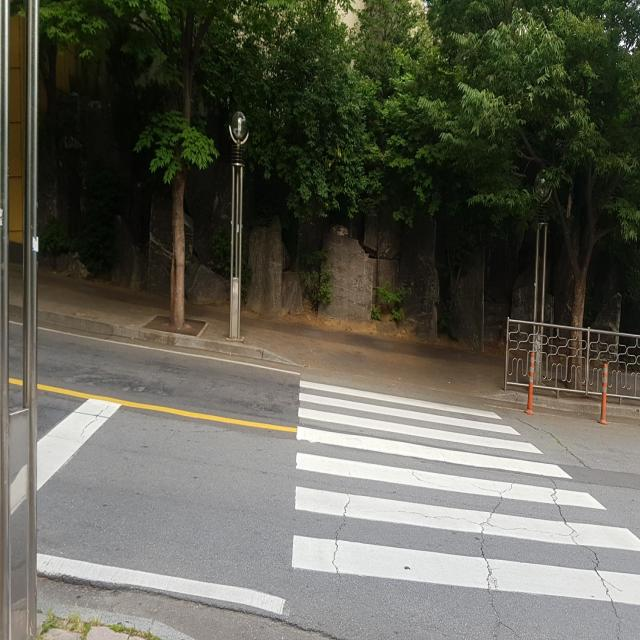횡단보도: (288, 373, 640, 609)
